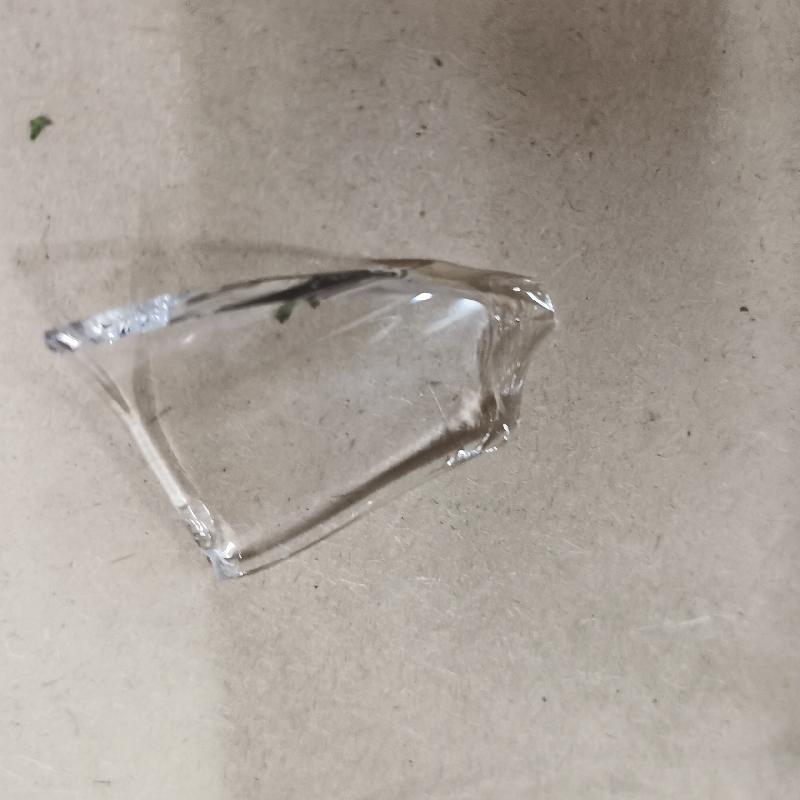glass: (50, 251, 556, 575)
